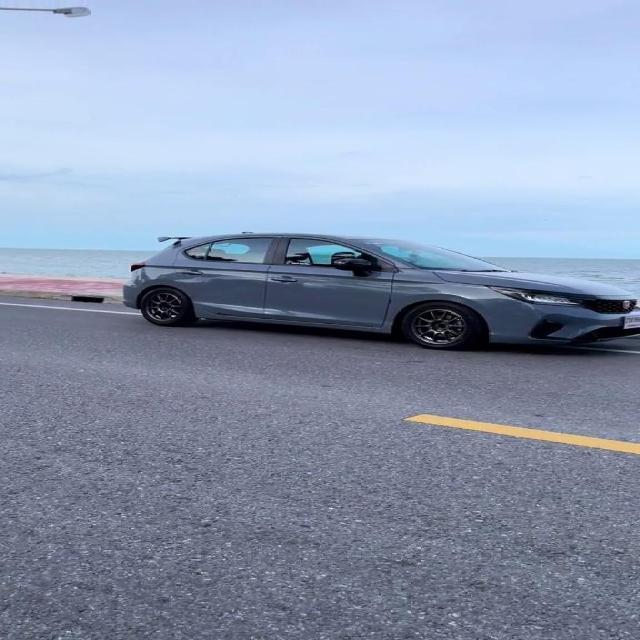Hatchback: (123, 232, 639, 350)
